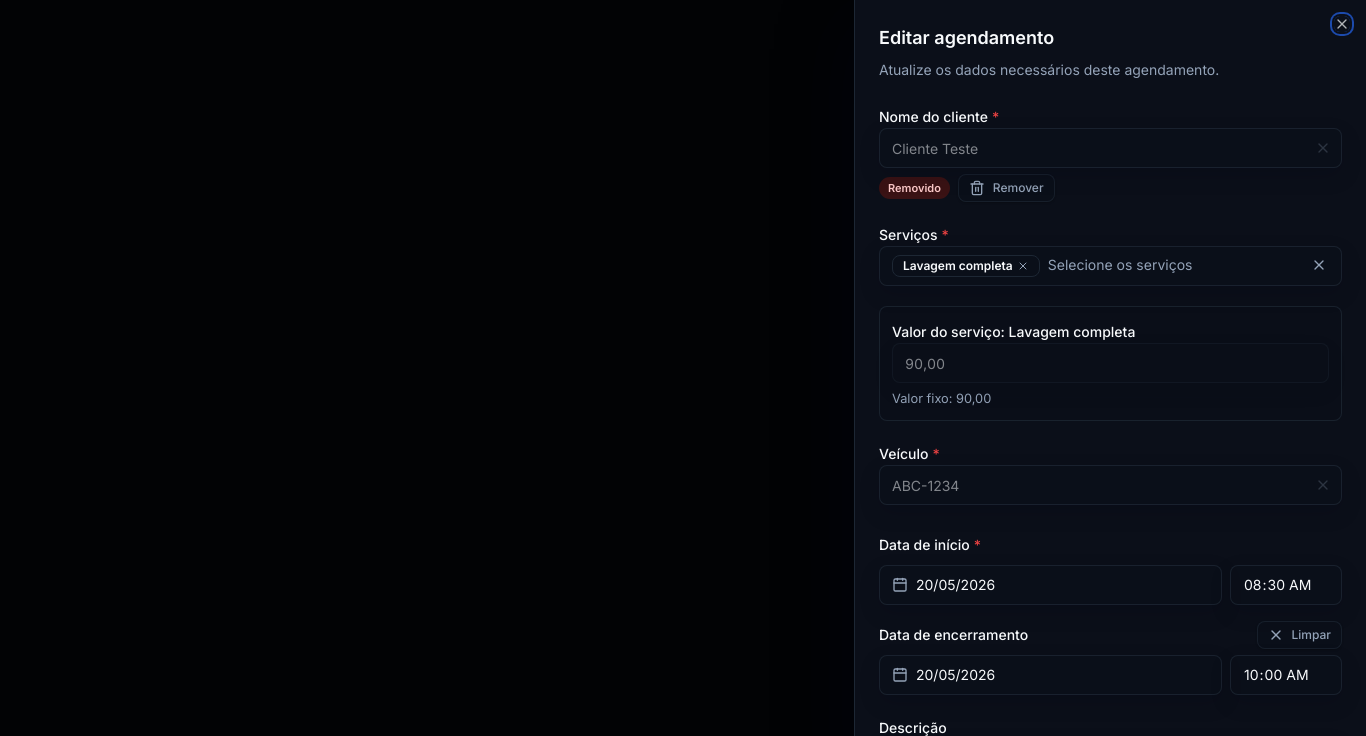
Scenario: AppointmentFormSheet › locks a deleted customer until it is removed from the appointment edit
Expected: the dropdown labelled "Nome do cliente*" is disabled, [880,130,1311,166]
Expected: the dropdown labelled "Veículo*" is disabled, [880,467,1311,503]
Click the button with aria-label "Remover cliente Cliente Teste" at (1006,188), box [958,174,1054,202]
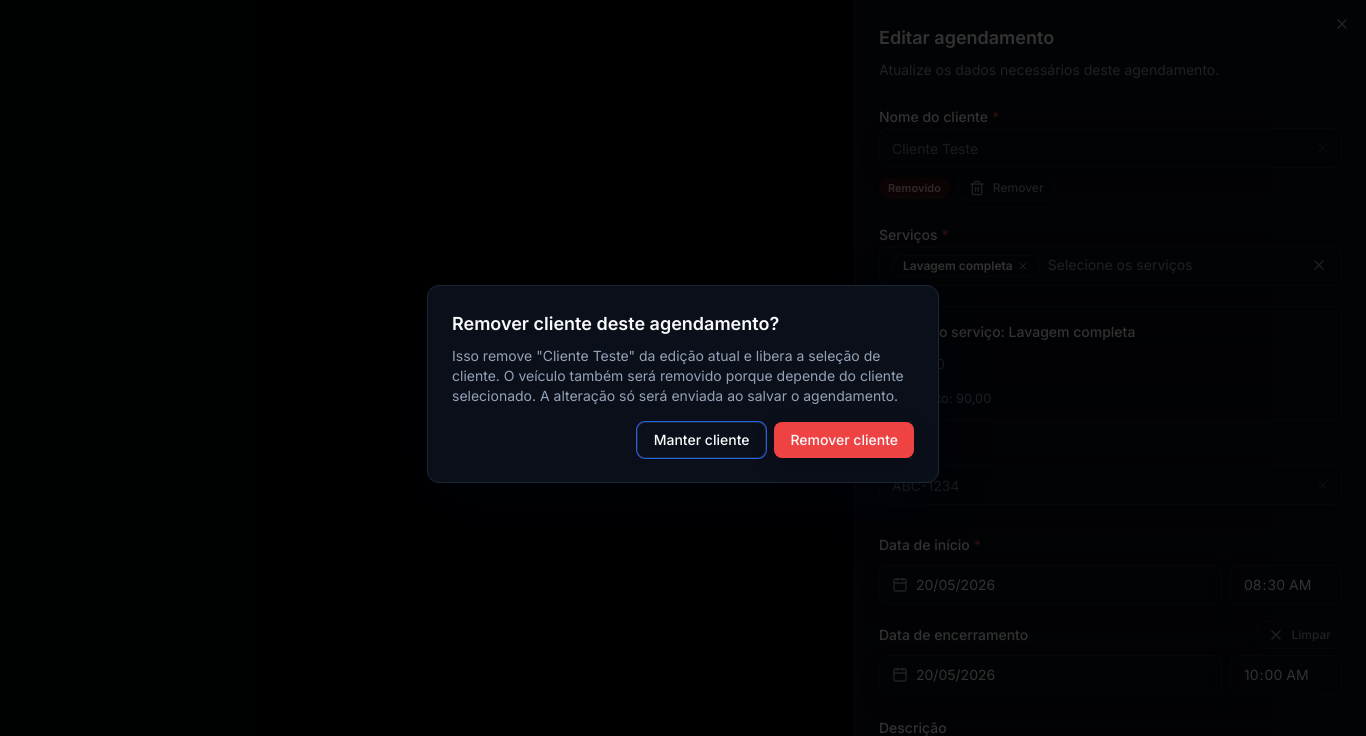
Now the heading "Remover cliente deste agendamento?" is shown, box [452,313,779,334]
Now the text "O veículo também será removido porque depende do cliente selecionado." is shown, box [452,347,904,404]
Click the button "Remover cliente" at (844,440), box [774,422,914,458]
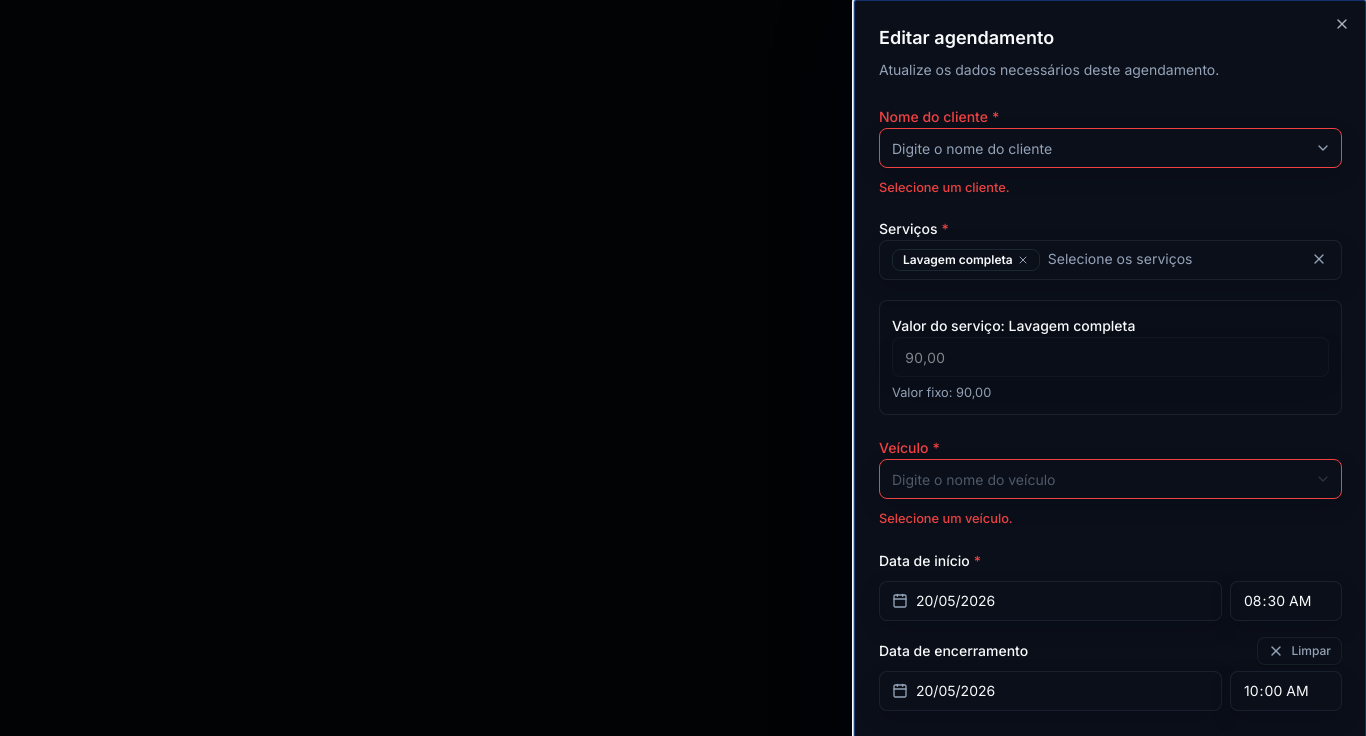
Now the dropdown labelled "Nome do cliente*" is enabled, box [880,130,1311,166]
Now the dropdown labelled "Nome do cliente*" is empty, box [880,130,1311,166]
Now the dropdown labelled "Veículo*" is empty, box [880,461,1311,497]
